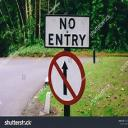NoSeguir: (45, 52, 87, 108)
